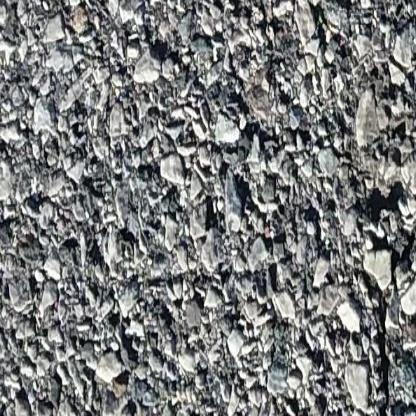Cracks: (361, 175, 416, 416), (405, 0, 416, 172)
